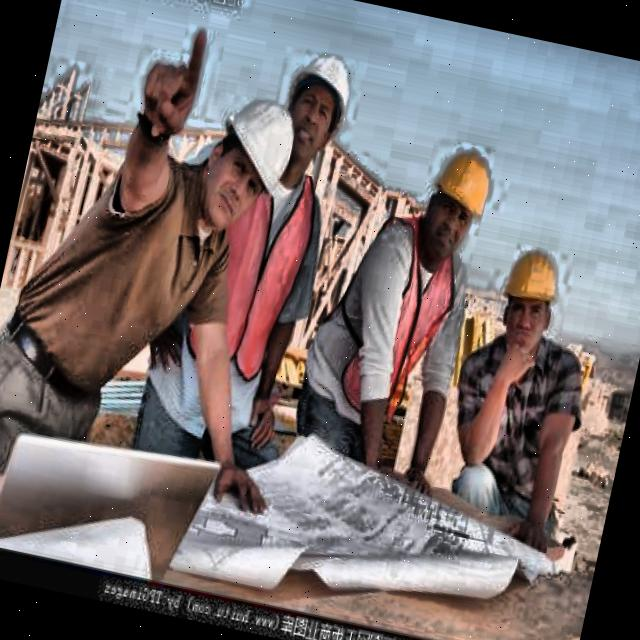helmet: (190, 94, 301, 241), (272, 42, 362, 174), (412, 143, 496, 270), (492, 240, 568, 360)
